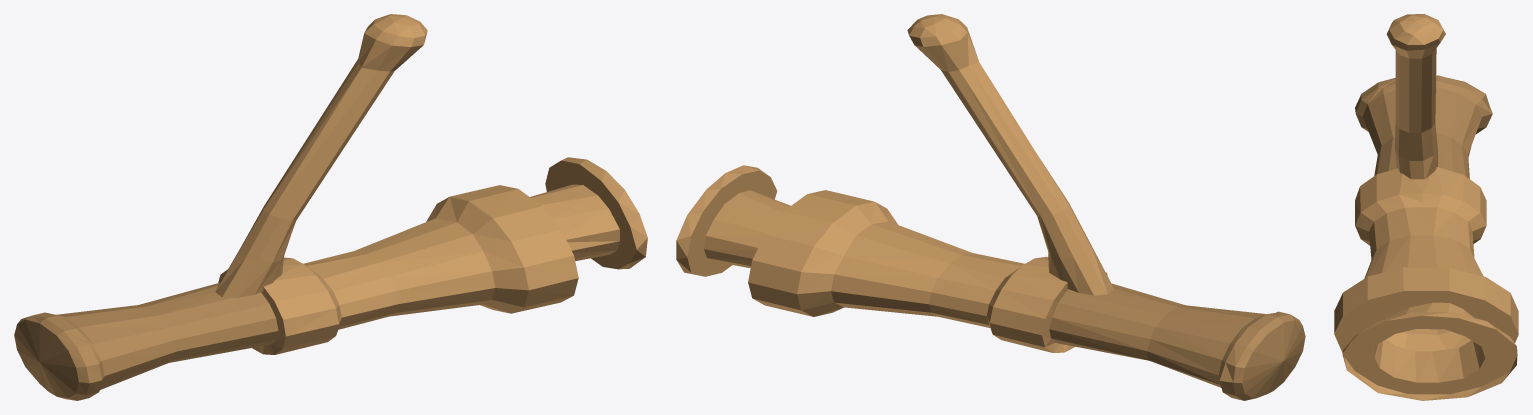
File: cric_manivelle.glb
3 renders of one model, left to right at view 1: azimuth 30°, elevation 25°; view 2: azimuth 150°, elevation 25°; view 3: azimuth 270°, elevation 25°, orthographic. The views are drawn at different scales.
Parts seen in each view (by area): view 1: Manivelle du cric; view 2: Manivelle du cric; view 3: Manivelle du cric.
Boxes of the visible parts, x1,y1,x2,y2 form: Manivelle du cric: [14, 14, 647, 400]; Manivelle du cric: [676, 14, 1305, 400]; Manivelle du cric: [1334, 14, 1518, 400].
Size of the model in its own units: 0.2906 by 0.1516 by 0.0855.
